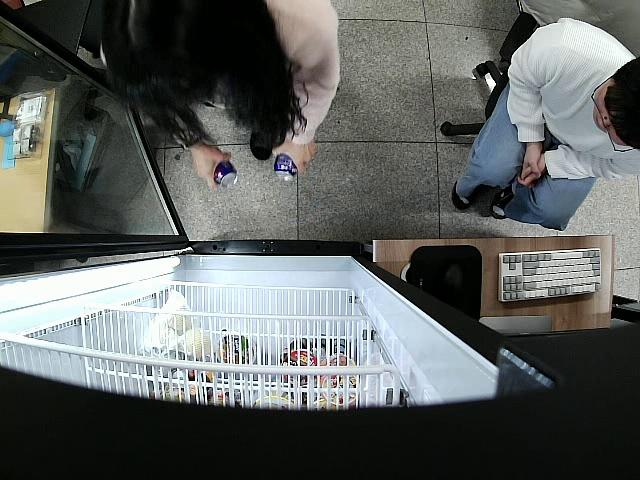00_hand: (191, 144, 232, 191), (271, 138, 316, 175)
14_welchsGrape: (209, 144, 238, 191), (274, 154, 299, 185)
